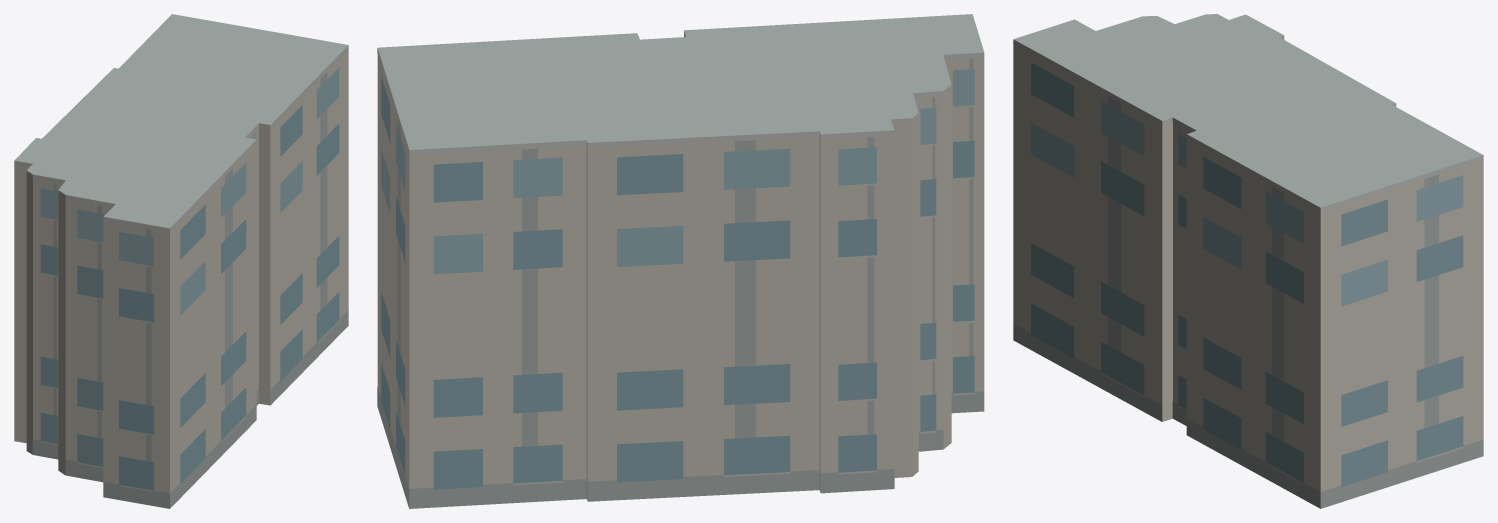
Rendered from survey-upis-32636775.glb.
The picture shows the model from 3 angles, left to right: view 1: azimuth 30°, elevation 25°; view 2: azimuth 150°, elevation 25°; view 3: azimuth 270°, elevation 25°; orthographic projection. The views are drawn at different scales.
Visible parts, largest first — view 1: survey-upis-32636775.tmp; view 2: survey-upis-32636775.tmp; view 3: survey-upis-32636775.tmp.
Boxes of the visible parts, x1,y1,x2,y2 form: survey-upis-32636775.tmp: (14,14,348,508); survey-upis-32636775.tmp: (377,14,984,508); survey-upis-32636775.tmp: (1013,14,1483,508).
Size of the model in its own units: 21.07 by 15.25 by 21.6.
